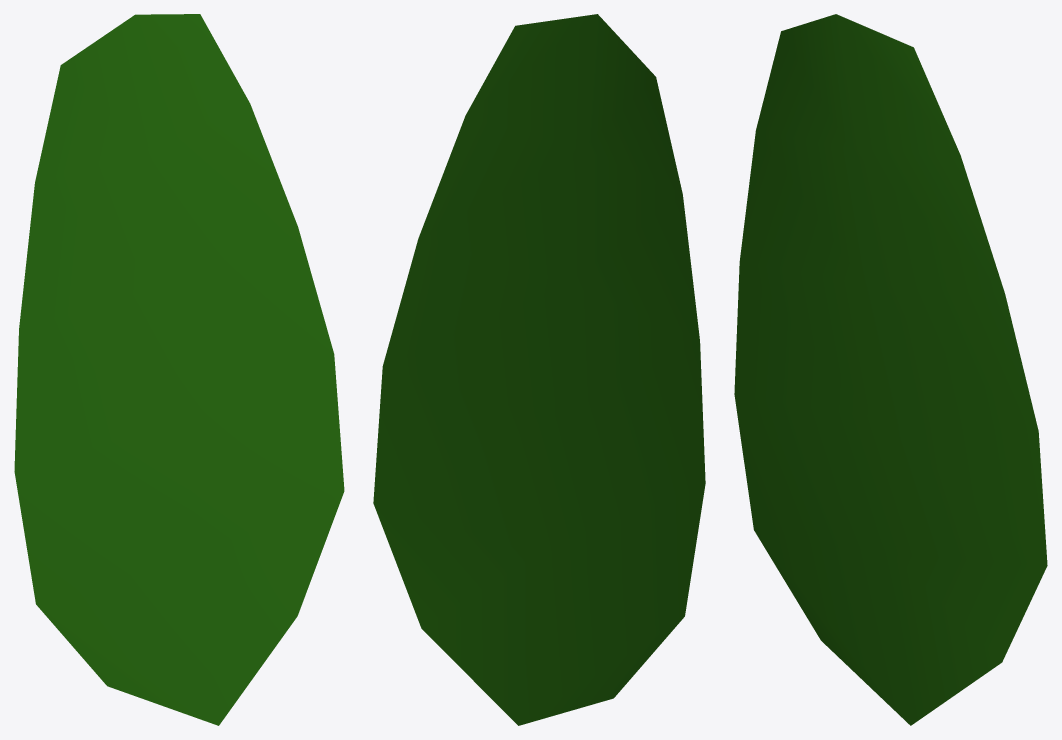
File: lovebird_feather_flight_tertiary_017.001.obj
3 renders of one model, left to right at view 1: azimuth 30°, elevation 25°; view 2: azimuth 150°, elevation 25°; view 3: azimuth 330°, elevation 25°, orthographic. The views are drawn at different scales.
Parts seen in each view (by area): view 1: feather_flight_tertiary_017.001; view 2: feather_flight_tertiary_017.001; view 3: feather_flight_tertiary_017.001.
Boxes of the visible parts, x1,y1,x2,y2 form: feather_flight_tertiary_017.001: (14,14,344,725); feather_flight_tertiary_017.001: (373,14,705,725); feather_flight_tertiary_017.001: (734,14,1047,725).
Bounding box in the file's own units: 0.00362 × 0.00764 × 0.000208.
